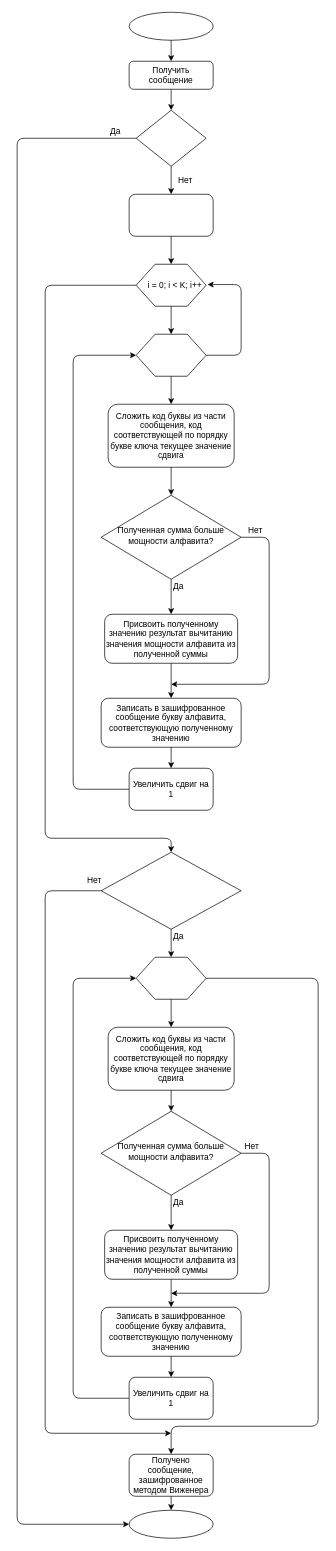
This 336x1551 diagram has some shape labels left out. The centre of each missing label's shape, as x and y in pixels:
"i = 0; i < M; i++" goes at pixel 170 978.
"j = 0; j < N; j++" goes at pixel 170 355.
"Есть остаток M от деления сообщения на части?" goes at pixel 170 890.
"Конец" goes at pixel 170 1524.
"Начало" goes at pixel 170 26.
"Разбить сообщение на K частей длинны N, где N - длина ключа" goes at pixel 170 215.
"Сообщение пустое?" goes at pixel 170 138.
